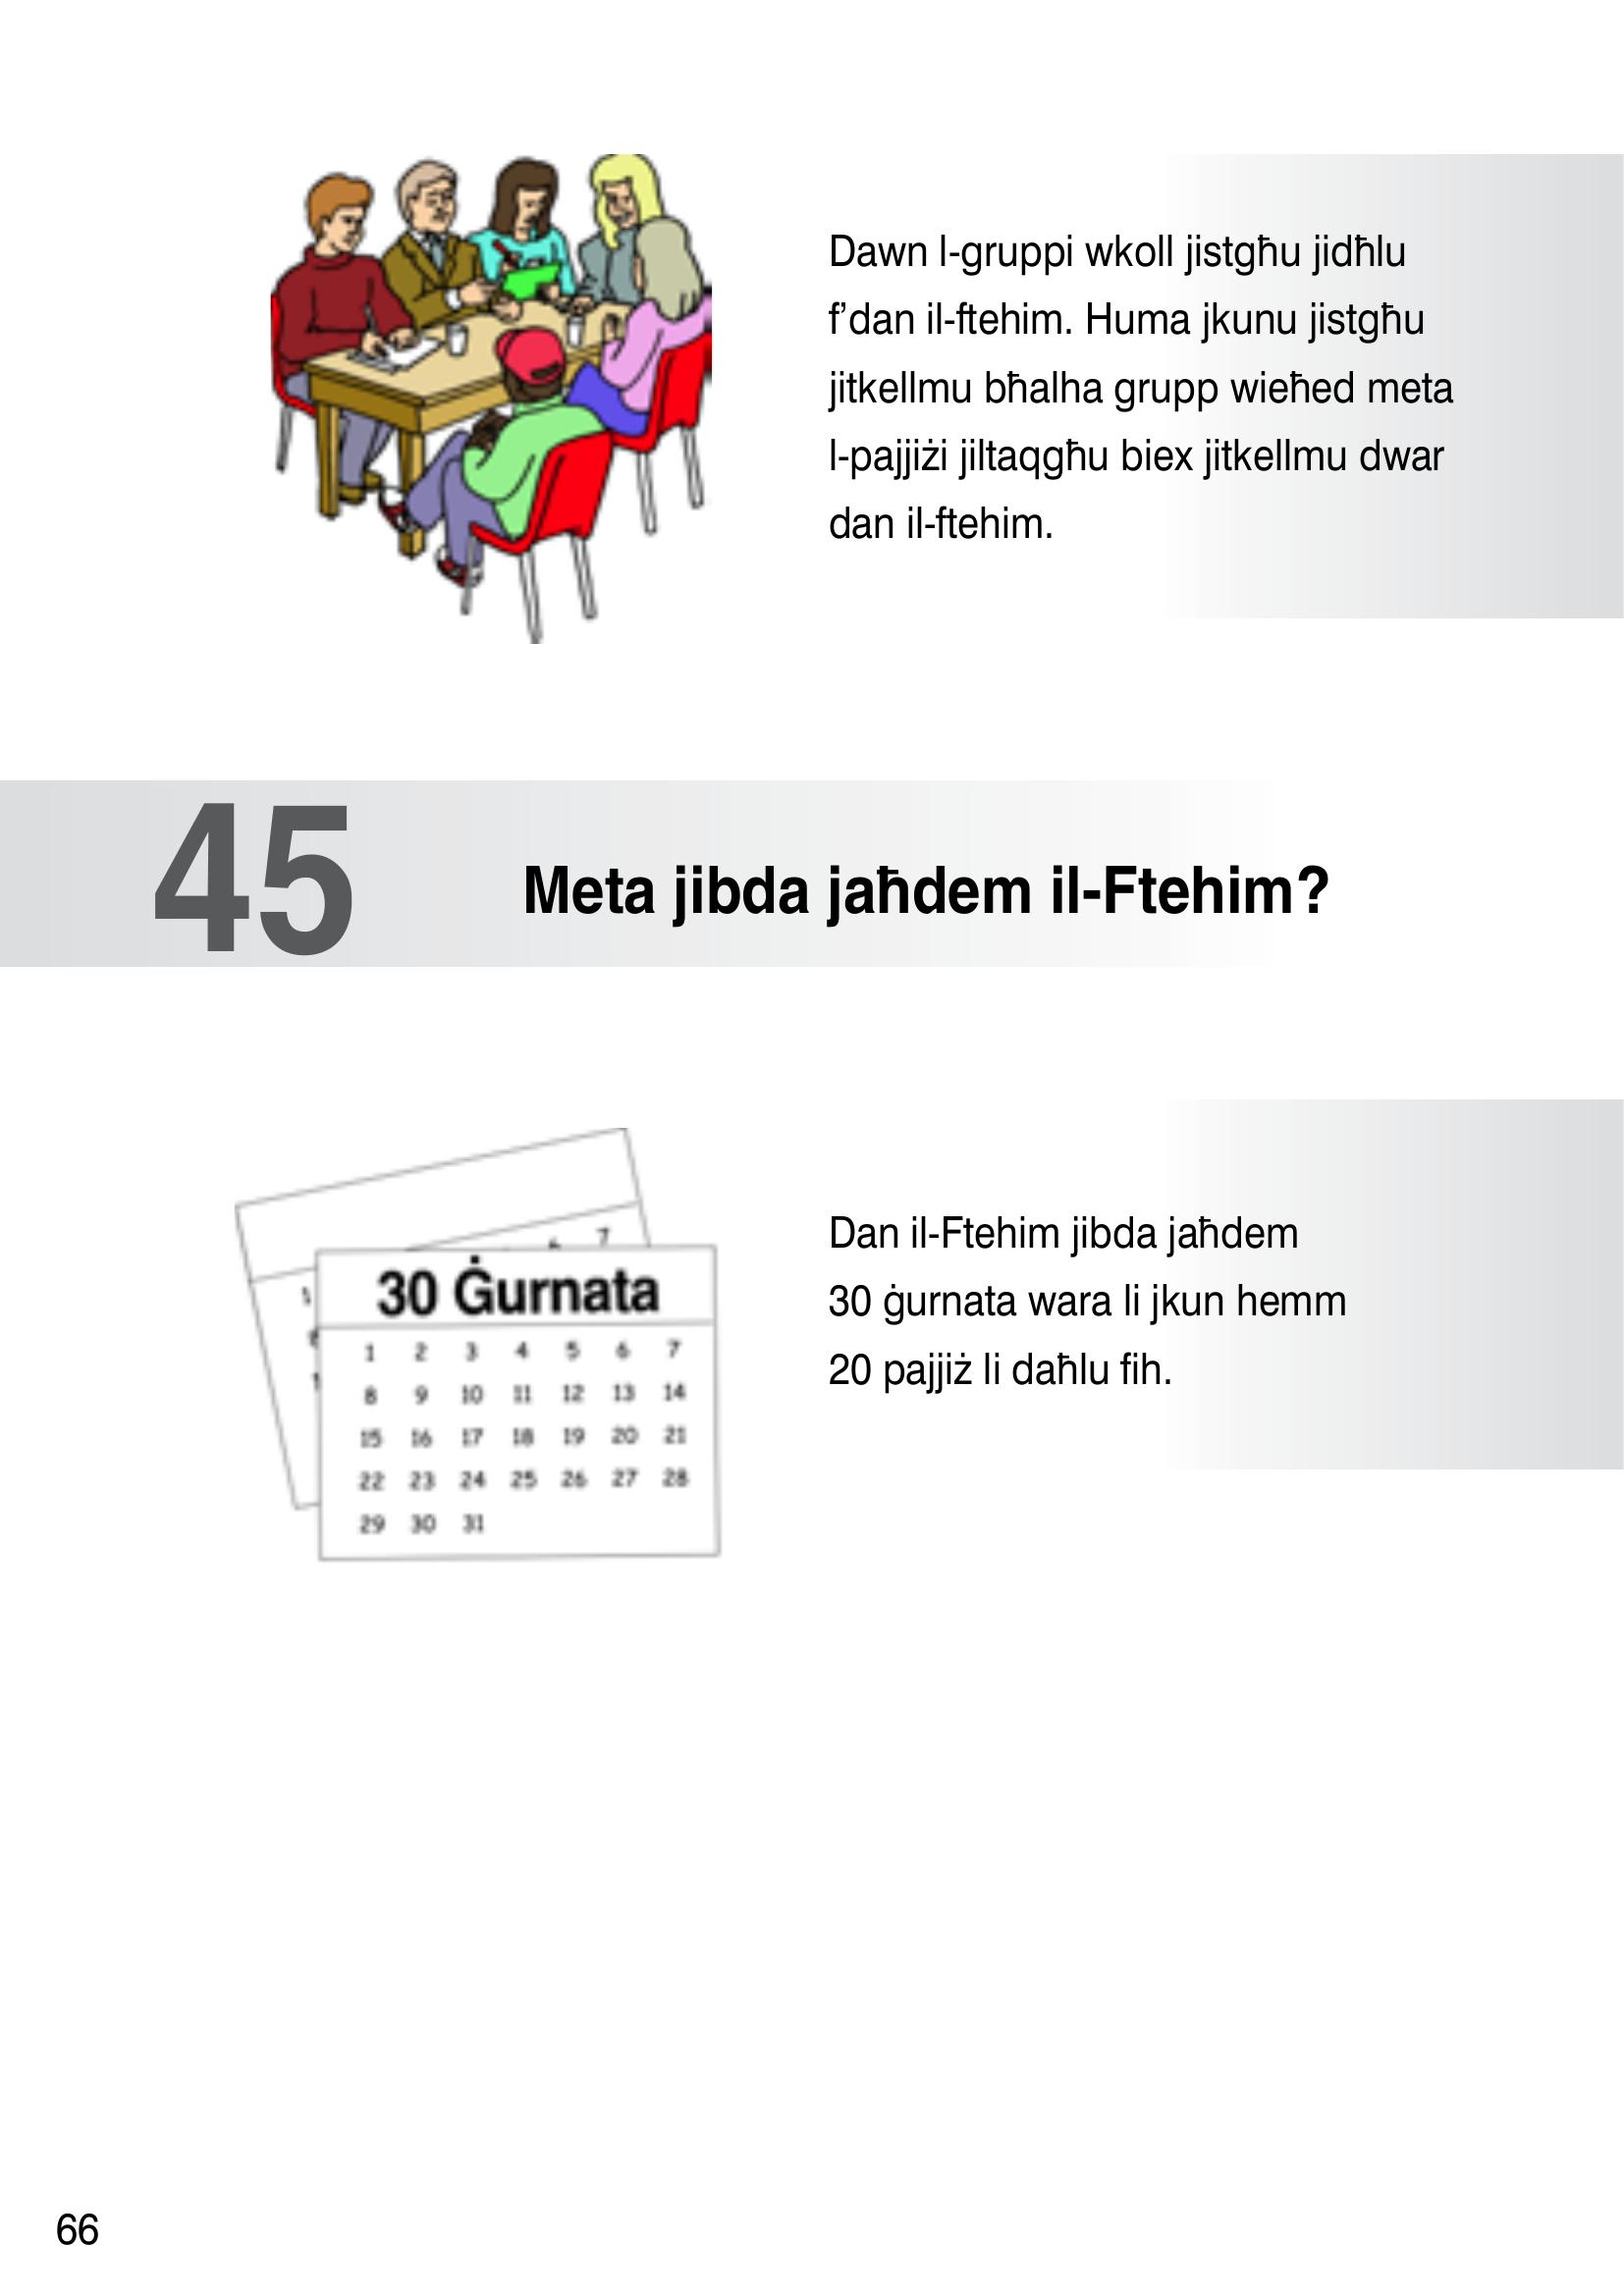text: (803, 199, 1510, 590), (123, 778, 1367, 982), (759, 1179, 1422, 1439)
